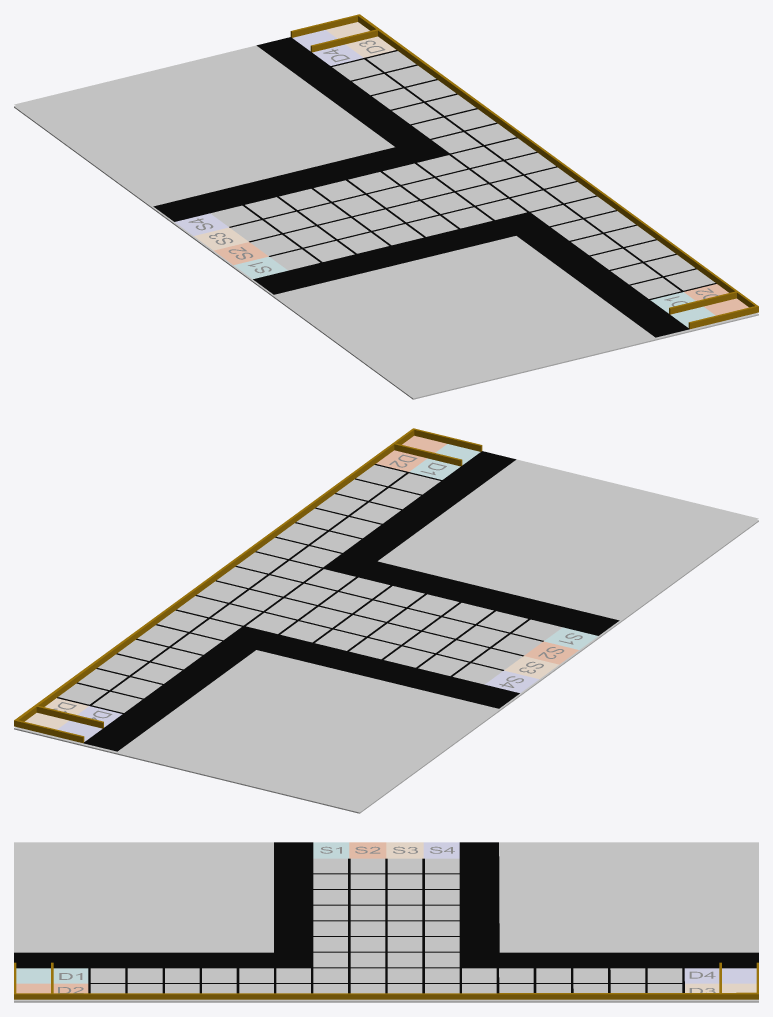
File: arena_s1.dae
3 renders of one model, top to bottom at view 1: azimuth 30°, elevation 25°; view 2: azimuth 150°, elevation 25°; view 3: azimuth 270°, elevation 25°, orthographic. The views are drawn at different scales.
Visible parts, largest first — view 1: arena_s1; view 2: arena_s1; view 3: arena_s1.
Boxes of the visible parts, x1,y1,x2,y2 form: arena_s1: (14, 14, 758, 399); arena_s1: (14, 428, 758, 813); arena_s1: (14, 842, 758, 1002).
Size of the model in its own units: 5.02 by 10.03 by 0.125.
